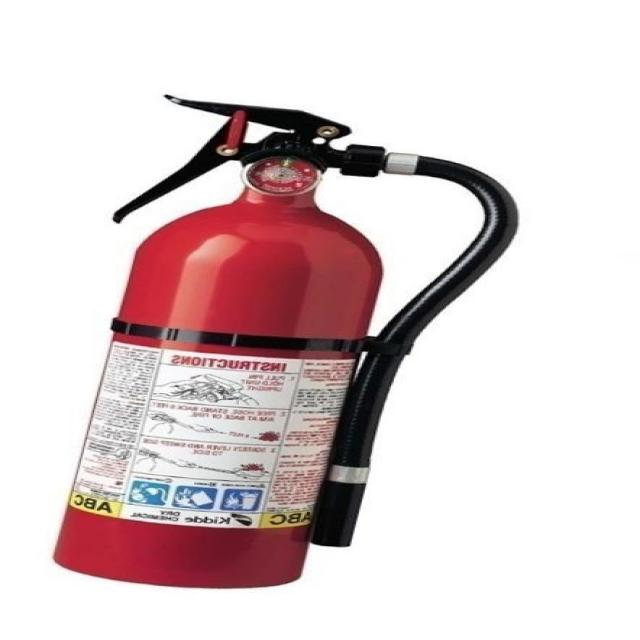fire_extinguisher: (38, 87, 532, 598)
